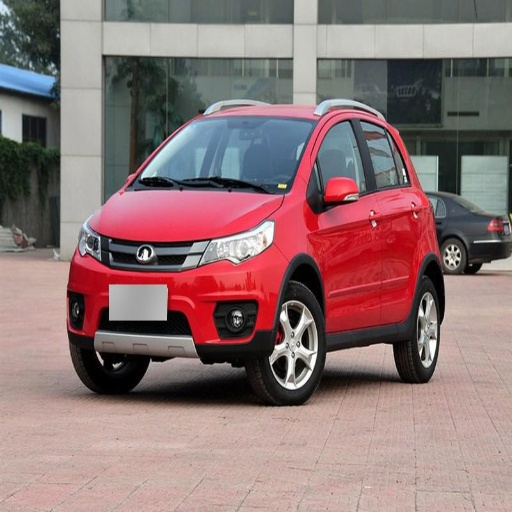front_bumper: (67, 234, 287, 363)
front_glass: (125, 114, 314, 195)
front_left_door: (308, 112, 380, 330)
